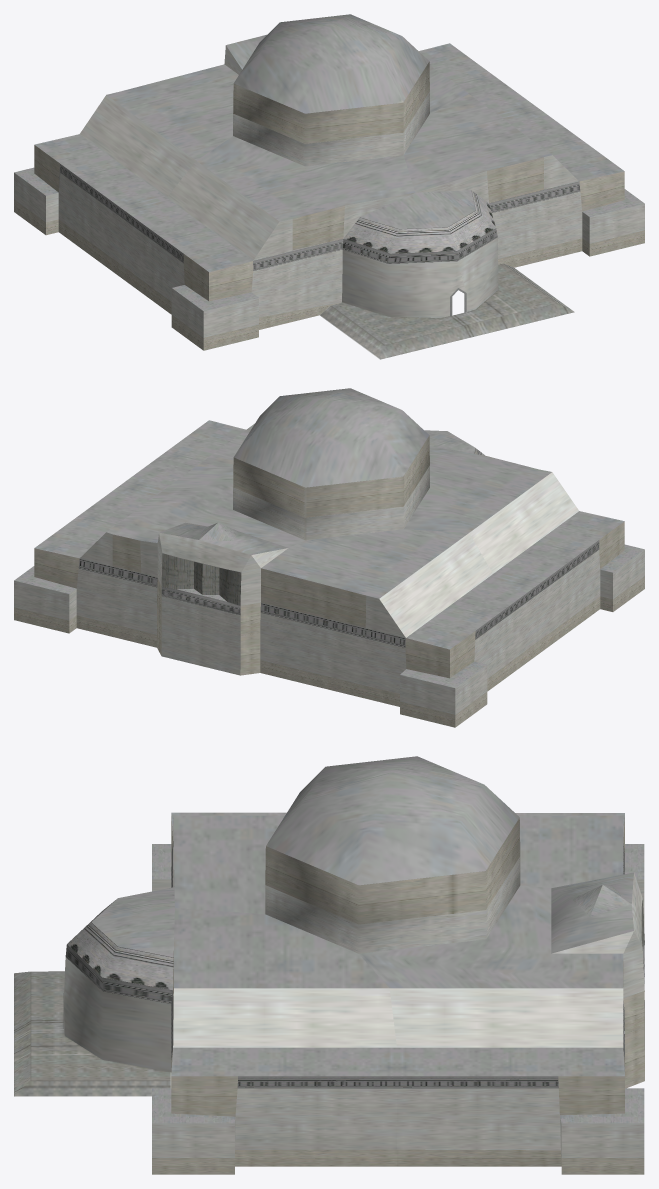
The model's file is mun_corl_hotel_s01_r0_hotel_mesh_exterior_l2.fbx.
3 views of the same model, one above another, from view 1: azimuth 30°, elevation 25°; view 2: azimuth 150°, elevation 25°; view 3: azimuth 270°, elevation 25° (orthographic). The views are drawn at different scales.
Visible parts, largest first — view 1: mesh_node; view 2: mesh_node; view 3: mesh_node.
Part boxes in pixels (x1=…): mesh_node: x1=14, y1=14, x2=644, y2=359; mesh_node: x1=14, y1=388, x2=644, y2=727; mesh_node: x1=14, y1=756, x2=644, y2=1174.
Size of the model in its own units: 59.56 by 26.07 by 56.85.
1 material, 1 textured.
